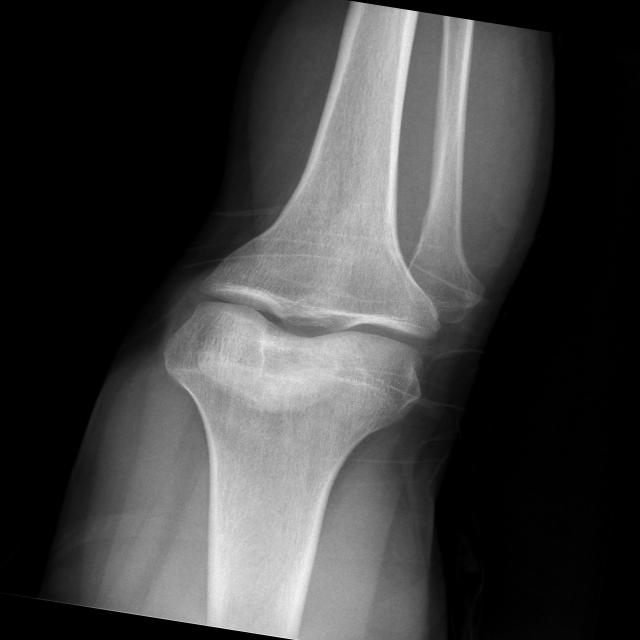Knee: (156, 230, 451, 413)
